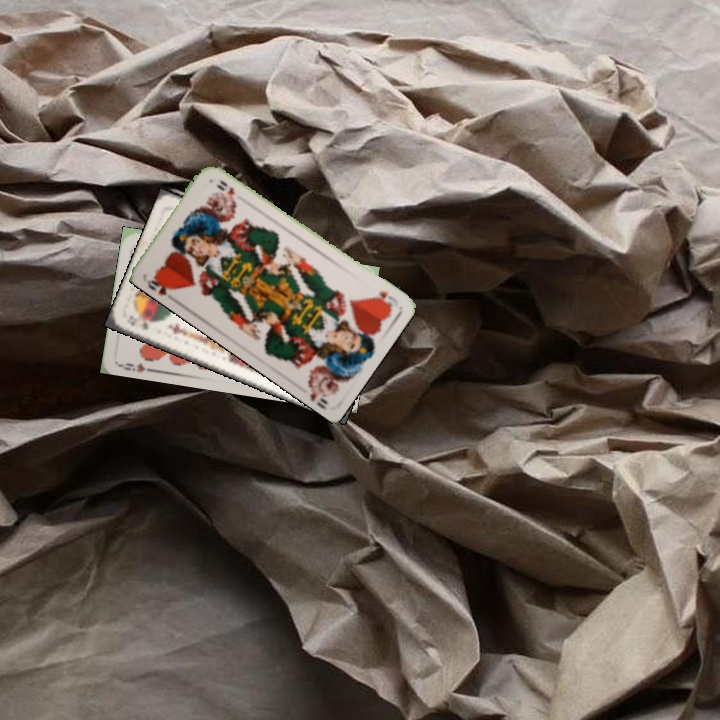H9: (116, 359, 156, 375)
HO: (143, 270, 180, 298), (370, 286, 401, 312)
SK: (122, 311, 151, 333)
